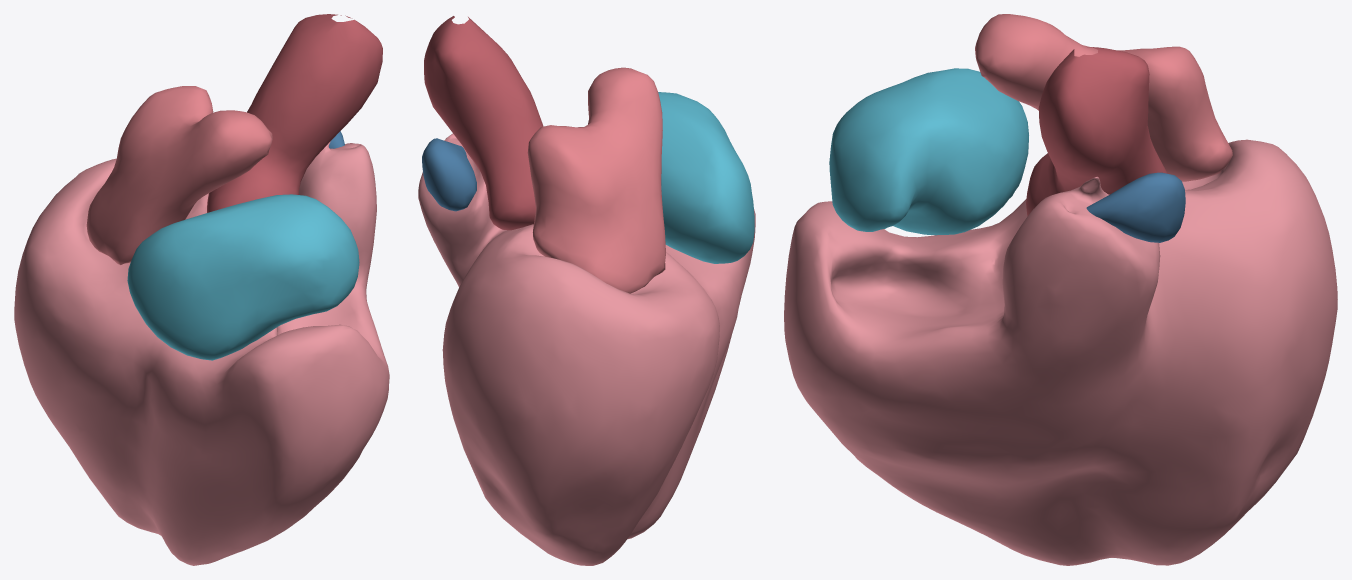
File: frame_38.glb
3 views of the same model, side by side, from view 1: azimuth 30°, elevation 25°; view 2: azimuth 150°, elevation 25°; view 3: azimuth 270°, elevation 25° (orthographic). The views are drawn at different scales.
Parts seen in each view (by area): view 1: Renderer Node; view 2: Renderer Node; view 3: Renderer Node.
Part boxes in pixels (x1,y1,x2,y2): Renderer Node: (14,14,389,565); Renderer Node: (418,16,755,565); Renderer Node: (784,14,1337,565).
Size of the model in its own units: 107 by 164 by 136.
